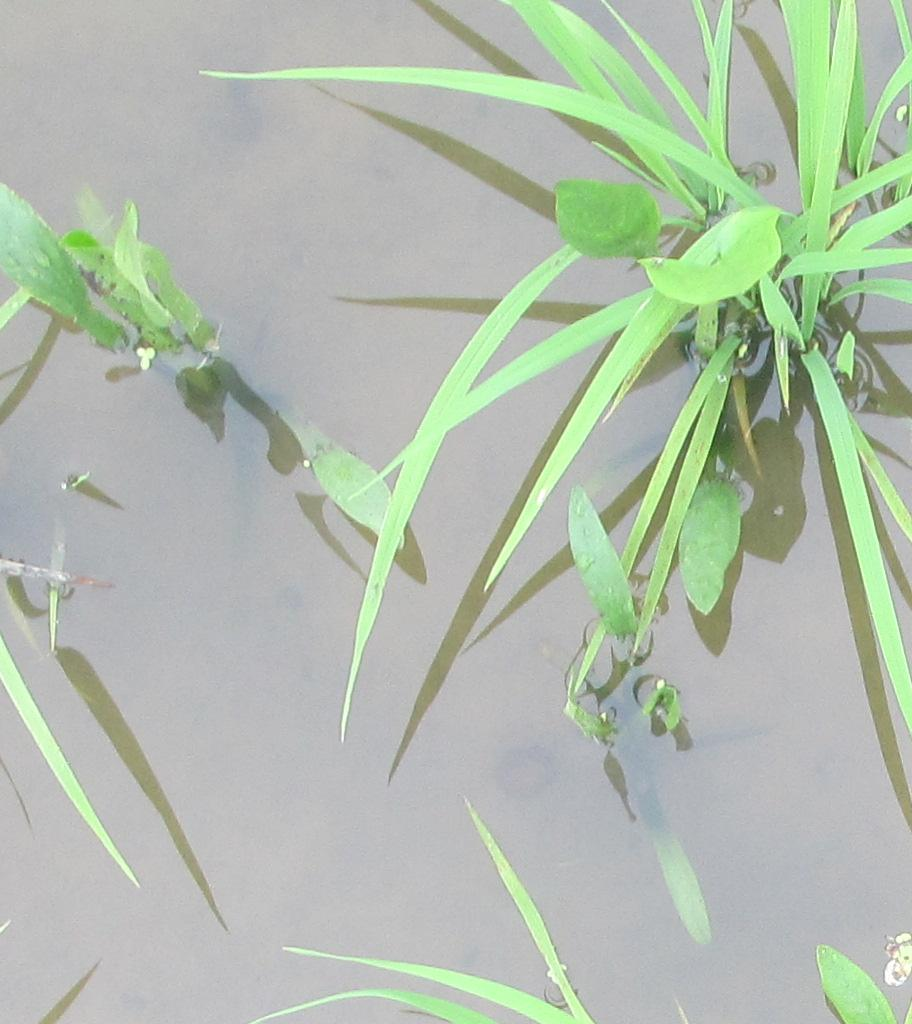Weed: (563, 471, 767, 655), (8, 183, 205, 361), (544, 175, 778, 305)
